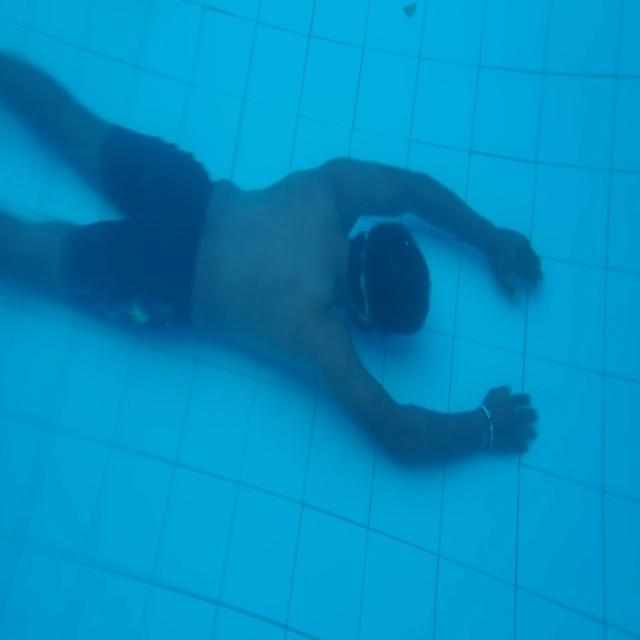drowning: (9, 145, 590, 468)
